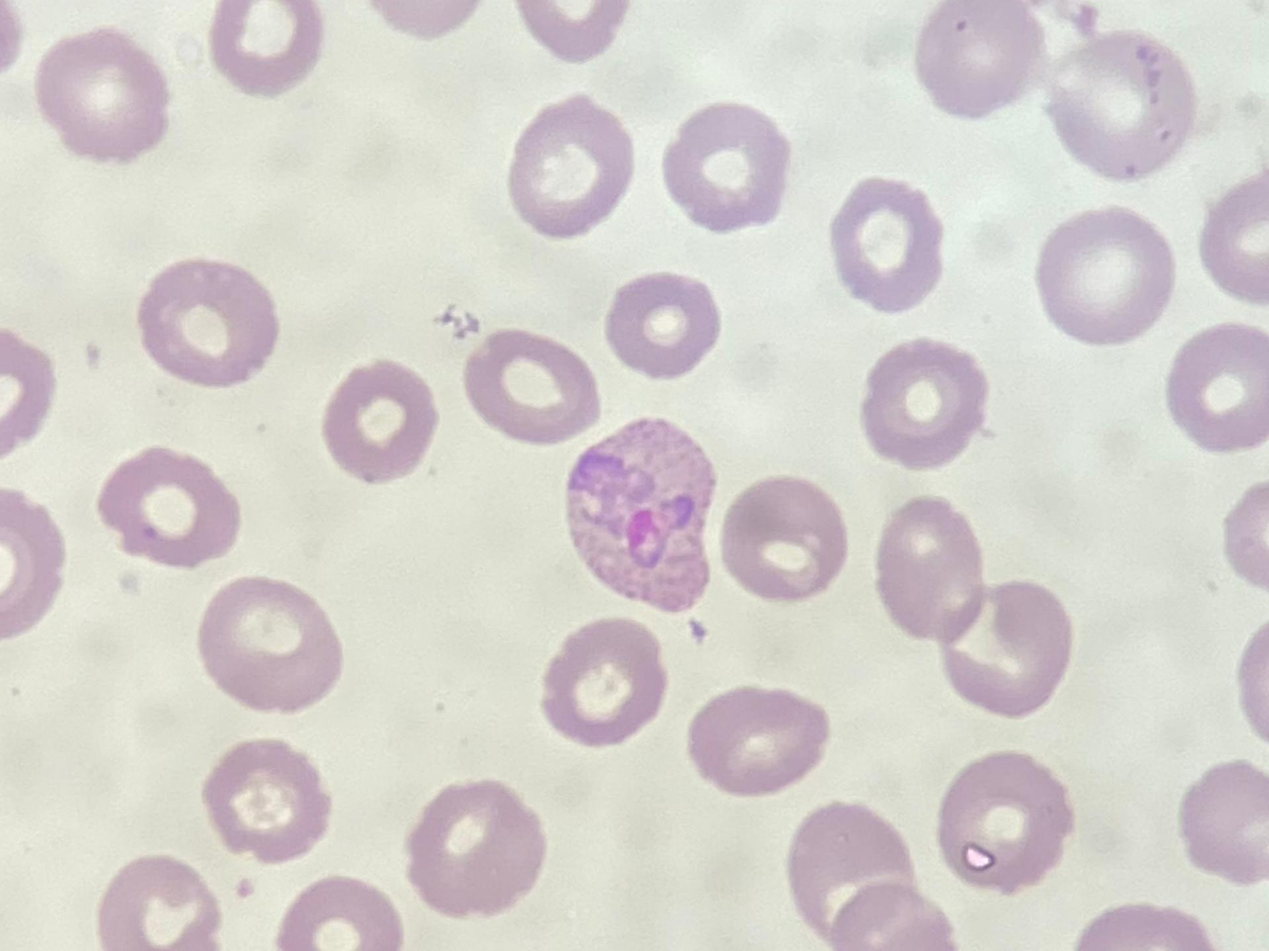Infected: (565, 415, 726, 614)
Uninfected: (1054, 25, 1198, 181), (406, 780, 547, 920), (943, 750, 1077, 894), (198, 580, 343, 713), (1034, 207, 1173, 345), (36, 30, 171, 169), (137, 258, 282, 387), (940, 579, 1070, 721), (512, 95, 635, 241), (101, 446, 237, 570), (461, 329, 605, 446), (544, 618, 670, 748), (203, 737, 329, 867), (666, 103, 790, 234), (720, 473, 847, 600), (863, 341, 991, 467), (793, 805, 917, 935), (691, 684, 832, 795), (828, 177, 943, 312), (877, 498, 981, 643), (922, 0, 1041, 119), (1168, 323, 1269, 452), (324, 359, 434, 476), (605, 273, 724, 381), (97, 853, 218, 951), (215, 0, 326, 101), (1181, 764, 1269, 887), (269, 874, 401, 951)
